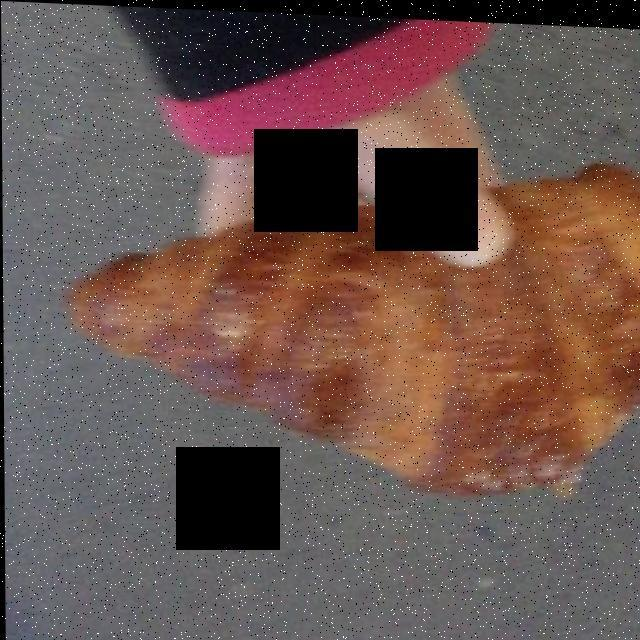croissant: (62, 152, 633, 487)
